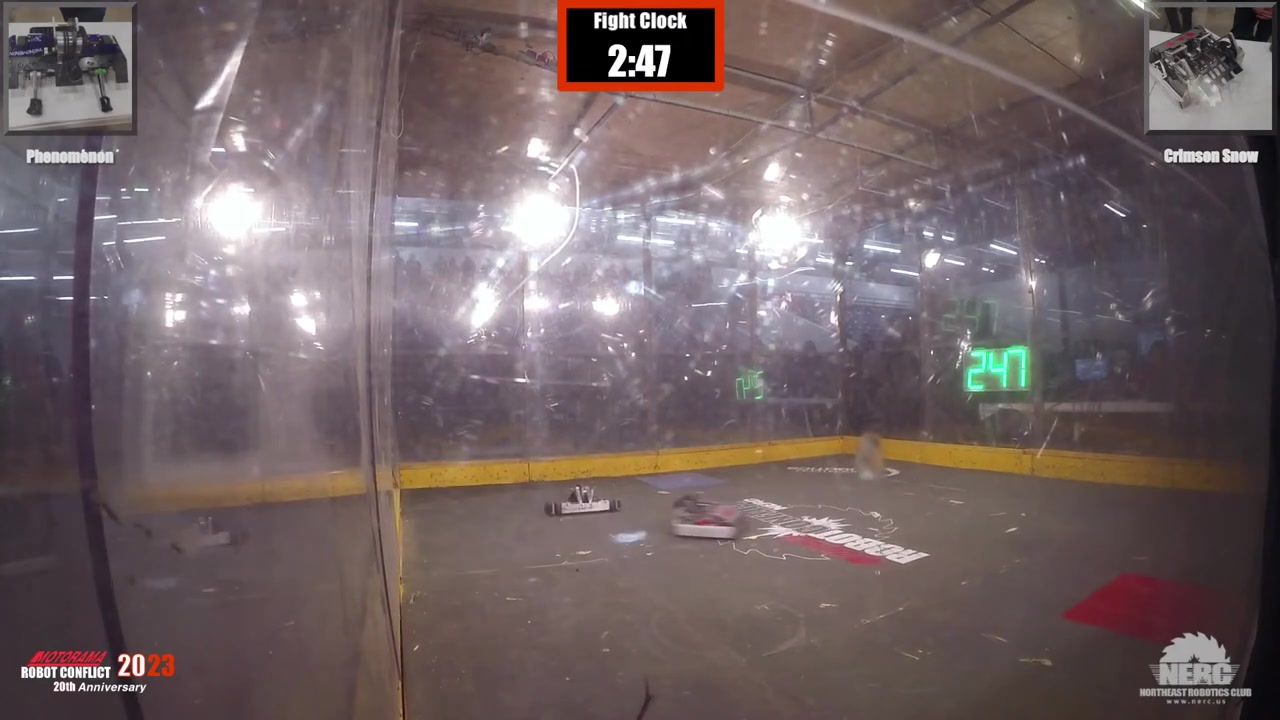combatbot: (673, 502, 747, 541), (548, 501, 620, 514)
